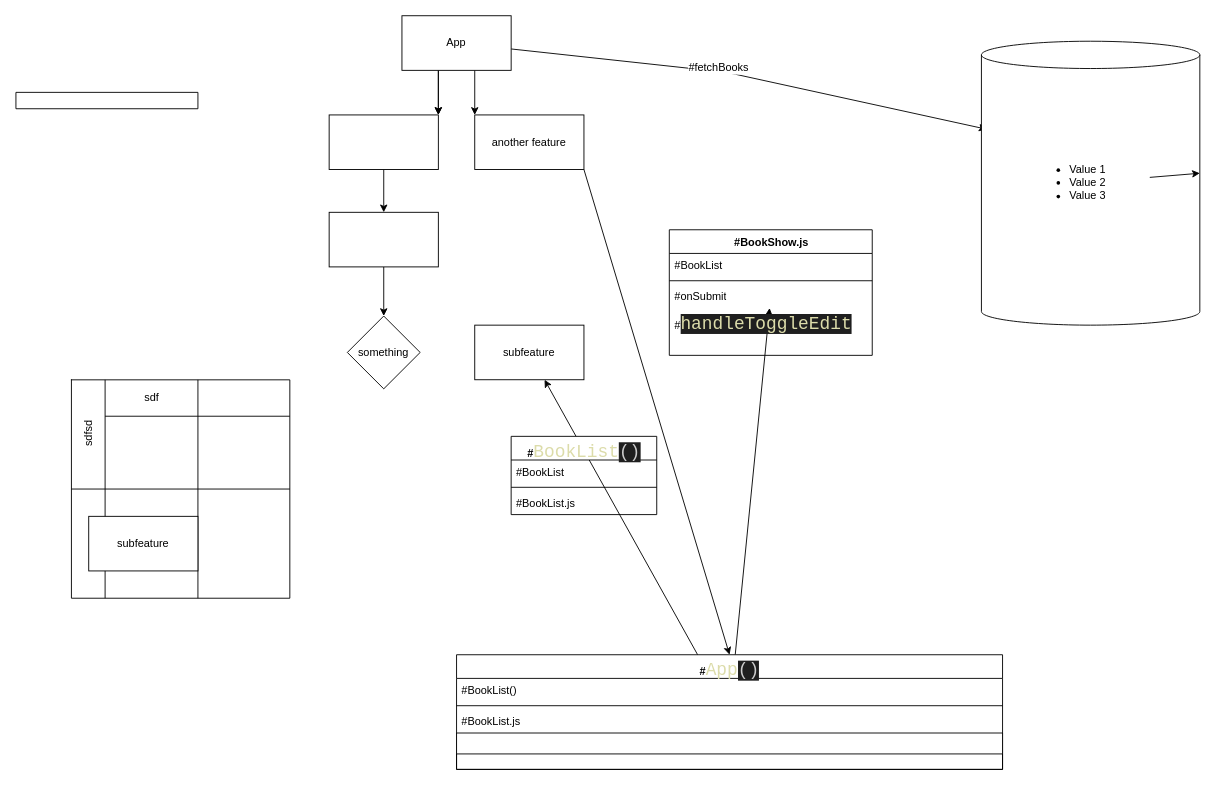
The diagram is 1223 pixels wide and 786 high, and some of its shapes have lost their labels. Here are the shapes that lost their labels. From the top down, the box of each, then its label:
(15, 91, 198, 109): ASD
(328, 114, 438, 170): #BookEdit.js
(328, 211, 438, 267): Delete
(456, 732, 1003, 769): Vertical Container
